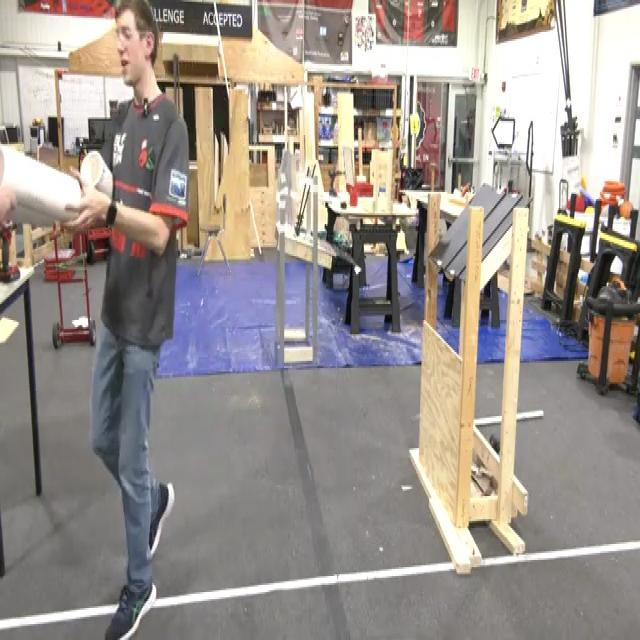Coral: (0, 140, 82, 228), (81, 152, 113, 202)
